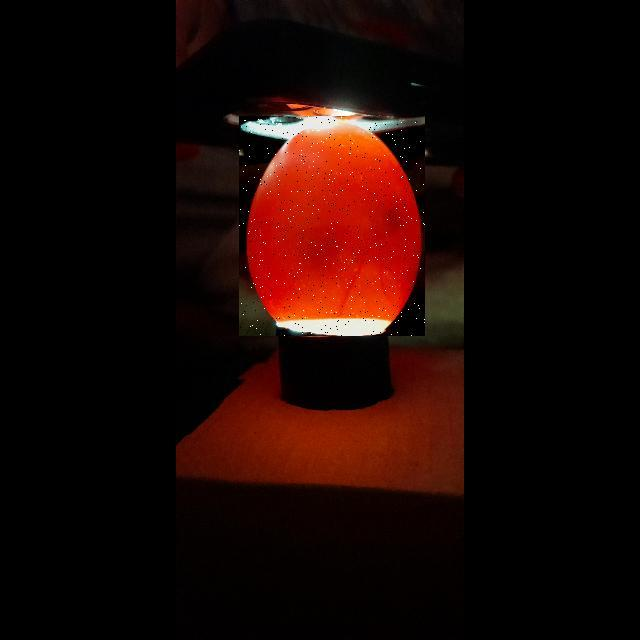Fertile: (239, 116, 425, 336)
